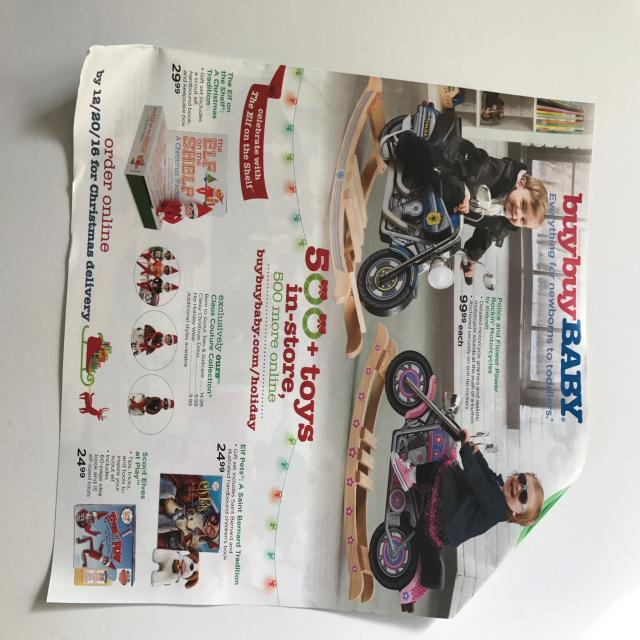paper: (46, 42, 592, 620)
